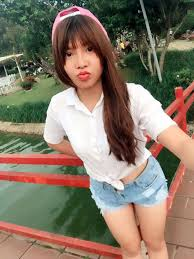people: (46, 10, 172, 259)
